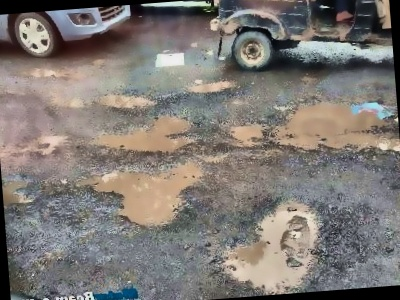pothole: (214, 191, 334, 297), (266, 88, 400, 164), (89, 155, 212, 234), (87, 110, 198, 157), (94, 86, 154, 112), (226, 118, 269, 148), (2, 175, 37, 209), (186, 76, 238, 96)
